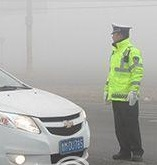person: (103, 22, 148, 161)
